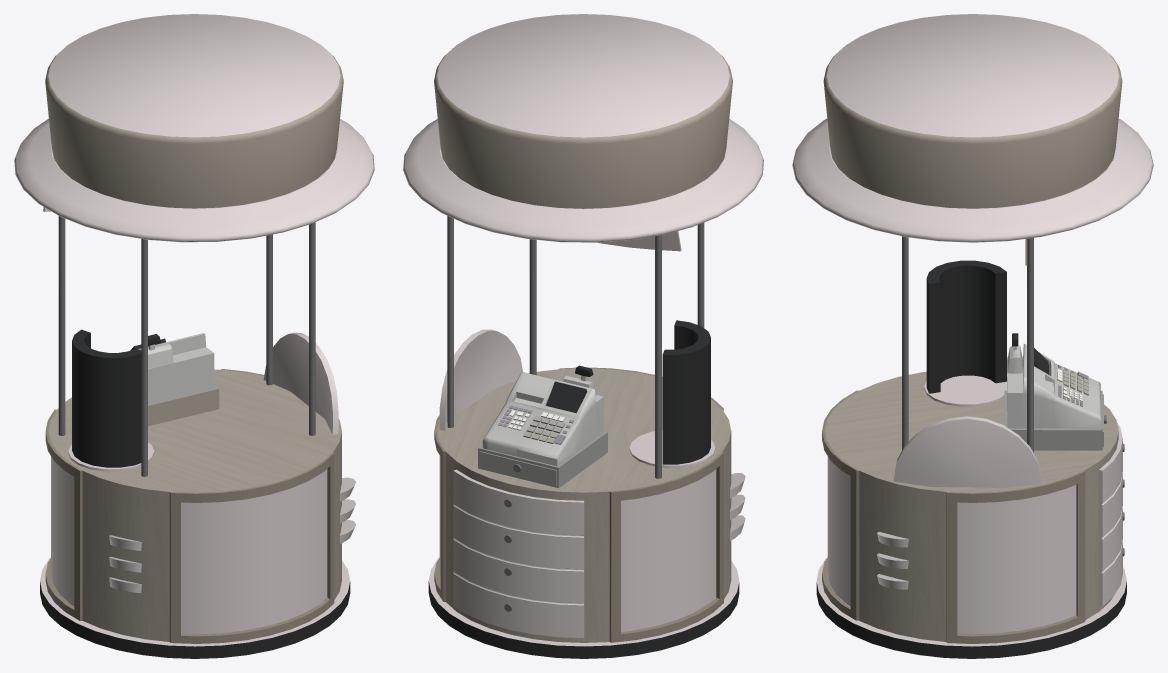
Rendered from Kiosk_BasicRound.fbx.
3 views of the same model, side by side, from view 1: azimuth 30°, elevation 25°; view 2: azimuth 150°, elevation 25°; view 3: azimuth 270°, elevation 25° (orthographic).
Parts seen in each view (by area): view 1: Kiosk_01; view 2: Kiosk_01; view 3: Kiosk_01.
Part boxes in pixels (box(x1,y1,x2,y2)): Kiosk_01: box(14, 14, 374, 658); Kiosk_01: box(403, 14, 763, 658); Kiosk_01: box(792, 14, 1153, 658).
Bounding box in the file's own units: 141 × 222 × 141.
